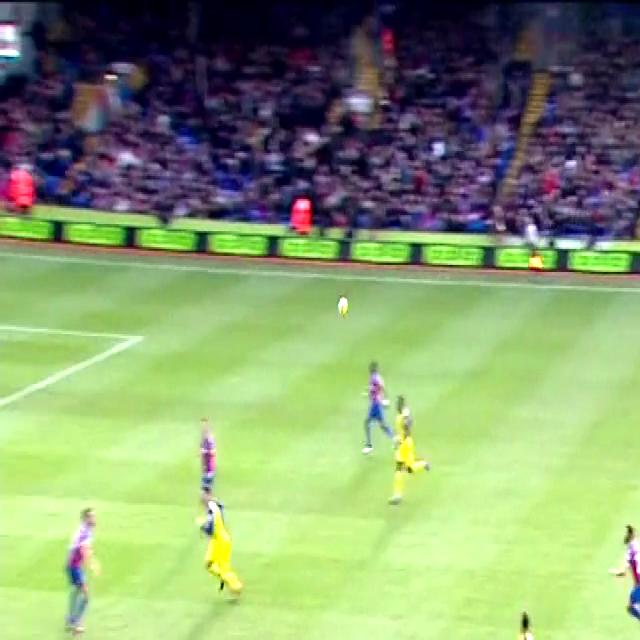ball: (338, 289, 352, 320)
soccer-player: (50, 487, 101, 640), (192, 489, 240, 609), (393, 387, 435, 493), (609, 512, 640, 640), (357, 351, 392, 462), (193, 403, 224, 524), (492, 602, 564, 640), (250, 631, 319, 640)
